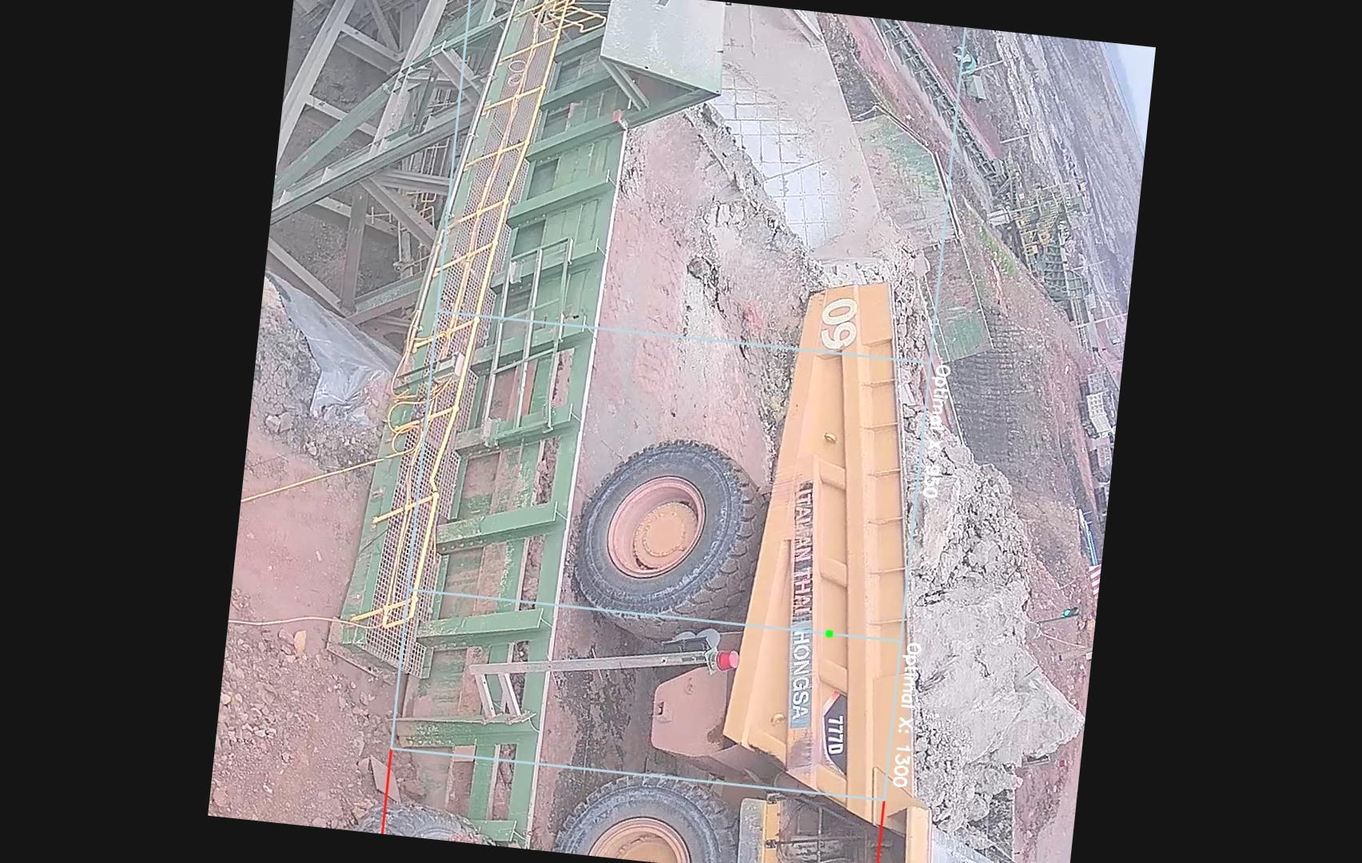company: (768, 472, 838, 742)
full_load: (863, 459, 1066, 844)
mining_truck: (542, 247, 1105, 863)
tail_number: (800, 282, 871, 363)
truck_size: (810, 678, 860, 790)
